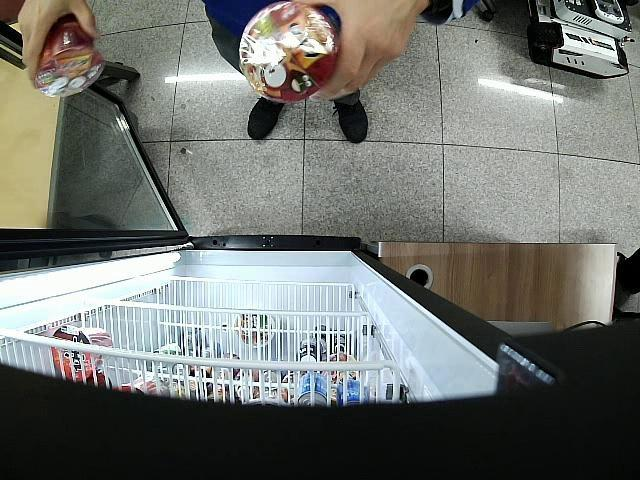06_nuguri_S: (240, 0, 339, 100), (35, 18, 105, 98)
